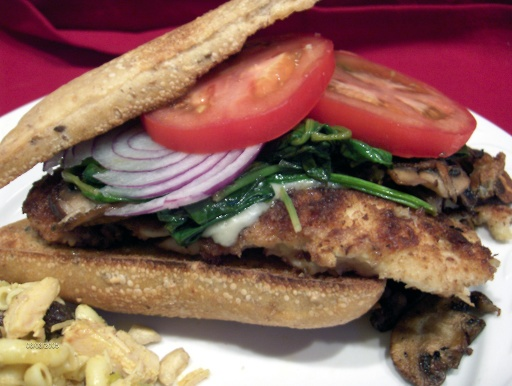background: (0, 0, 410, 233)
